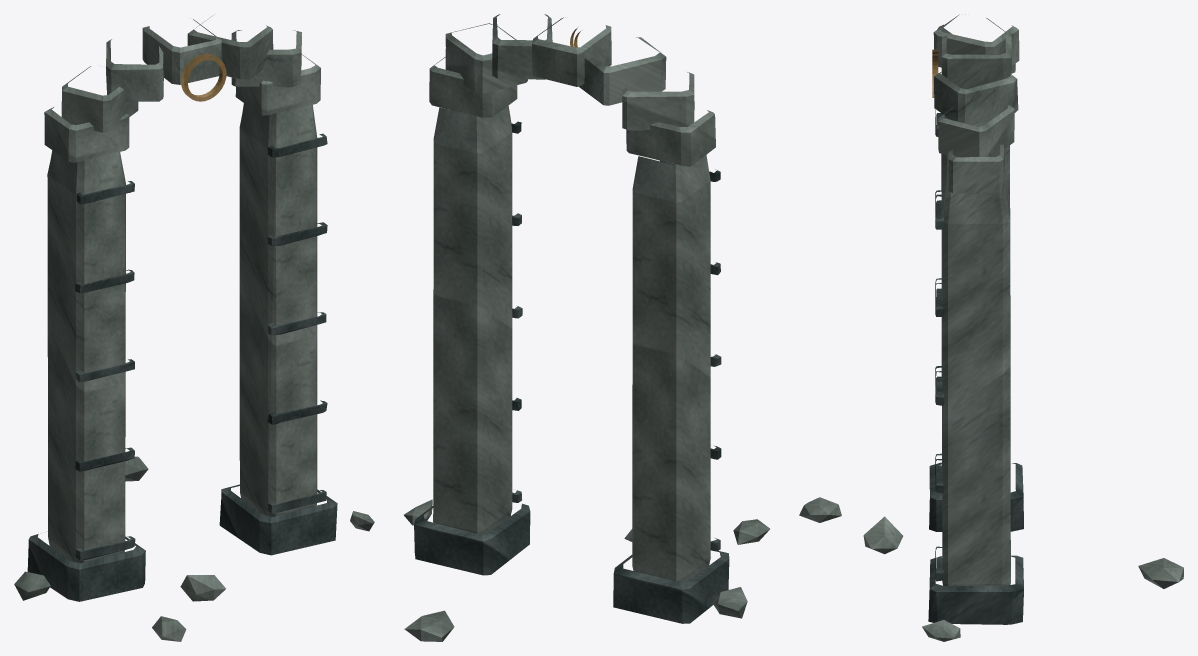
File: 0311_archway_11.glb
3 renders of one model, left to right at view 1: azimuth 30°, elevation 25°; view 2: azimuth 150°, elevation 25°; view 3: azimuth 270°, elevation 25°, orthographic. The views are drawn at different scales.
Parts seen in each view (by area): view 1: stone, stone_dark, brass; view 2: stone, stone_dark; view 3: stone, stone_dark.
Part boxes in pixels (x1,y1,x2,y2): stone: [14, 16, 374, 641]; stone_dark: [27, 133, 337, 601]; brass: [181, 53, 226, 101]; stone: [404, 14, 769, 641]; stone_dark: [414, 121, 729, 623]; stone: [799, 14, 1183, 641]; stone_dark: [928, 109, 1023, 624].
Bounding box in the file's own units: 3.5 × 5.22 × 3.49.
3 materials, 3 textured.
